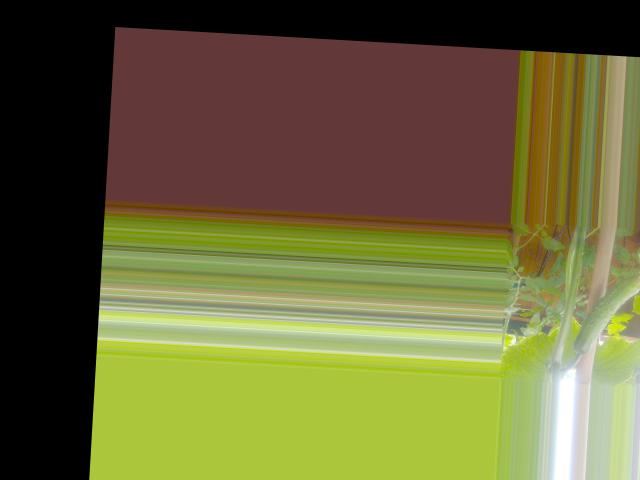cucumber: (574, 248, 640, 358)
